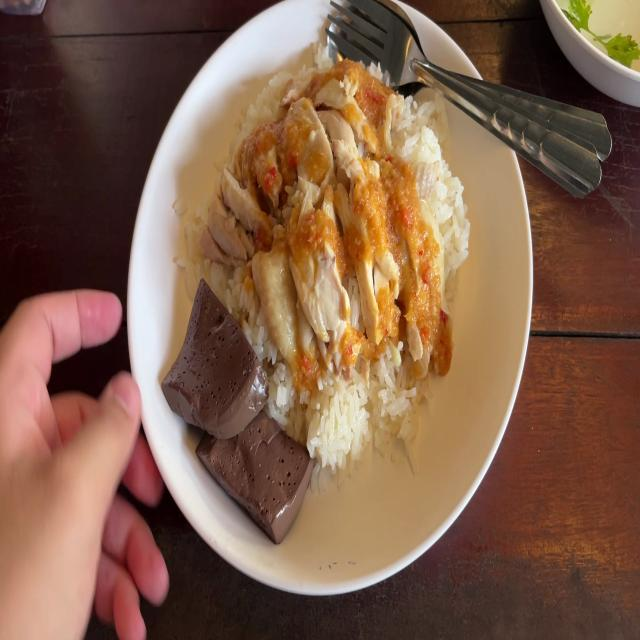boiled_chicken: (218, 73, 420, 344)
boiled_chicken_blood_jelly: (199, 381, 311, 539), (164, 276, 262, 428)
chicken_rice: (170, 47, 472, 542)
